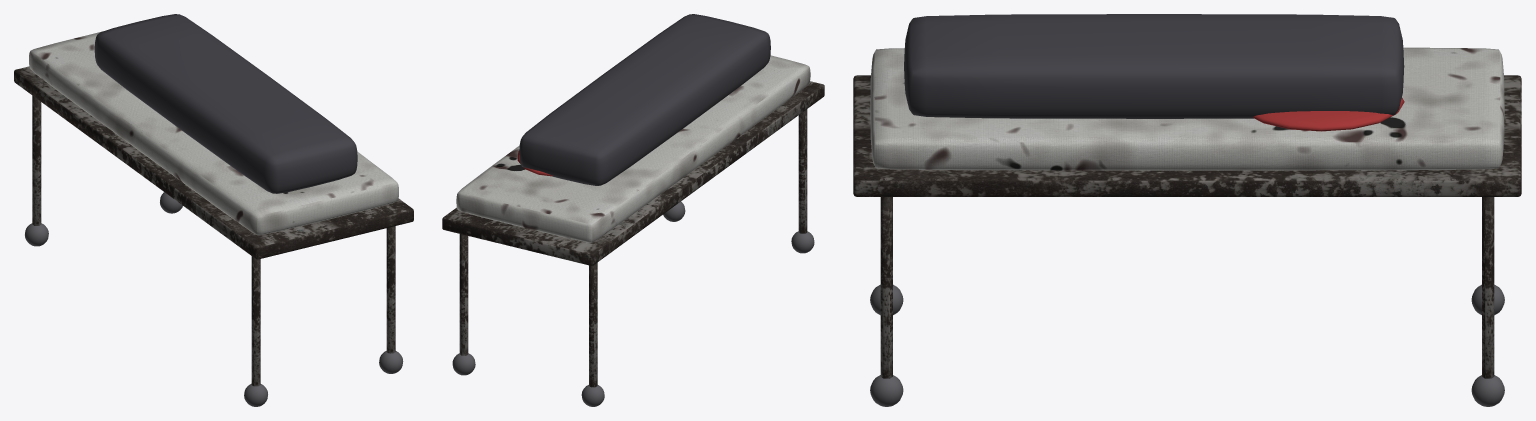
Rendered from prop_gurney.glb.
3 views of the same model, side by side, from view 1: azimuth 30°, elevation 25°; view 2: azimuth 150°, elevation 25°; view 3: azimuth 270°, elevation 25° (orthographic). The views are drawn at different scales.
Visible parts, largest first — view 1: BodyBag, Mattress, Frame, Leg.002, Leg, Leg.003, Wheel.002, Wheel.003, Wheel; view 2: BodyBag, Mattress, Frame, Leg.002, Leg.001, Leg, Wheel.002, Wheel.001, Wheel; view 3: BodyBag, Mattress, Frame, Leg.001, Leg.003, Stain, Wheel.001, Wheel.003.
Boxes of the visible parts, left/top/right/bottom form: BodyBag: left=94, top=14, right=357, bottom=193; Mattress: left=29, top=31, right=398, bottom=235; Frame: left=14, top=66, right=413, bottom=259; Leg.002: left=251, top=256, right=260, bottom=386; Leg: left=32, top=95, right=41, bottom=225; Leg.003: left=386, top=226, right=395, bottom=353; Wheel.002: left=244, top=383, right=267, bottom=406; Wheel.003: left=379, top=351, right=403, bottom=373; Wheel: left=25, top=223, right=48, bottom=246; BodyBag: left=519, top=14, right=770, bottom=185; Mattress: left=456, top=55, right=810, bottom=242; Frame: left=442, top=81, right=824, bottom=265; Leg.002: left=798, top=109, right=807, bottom=233; Leg.001: left=459, top=234, right=468, bottom=355; Leg: left=589, top=262, right=597, bottom=387; Wheel.002: left=791, top=231, right=814, bottom=253; Wheel.001: left=452, top=353, right=475, bottom=375; Wheel: left=581, top=385, right=604, bottom=406; BodyBag: left=904, top=14, right=1404, bottom=118; Mattress: left=870, top=47, right=1504, bottom=170; Frame: left=853, top=75, right=1521, bottom=196; Leg.001: left=1482, top=197, right=1494, bottom=378; Leg.003: left=880, top=197, right=892, bottom=378; Stain: left=1253, top=98, right=1404, bottom=131; Wheel.001: left=1471, top=375, right=1504, bottom=406; Wheel.003: left=870, top=375, right=903, bottom=406.
Size of the model in its own units: 0.75 by 1.07 by 2.
5 materials, 2 textured.
